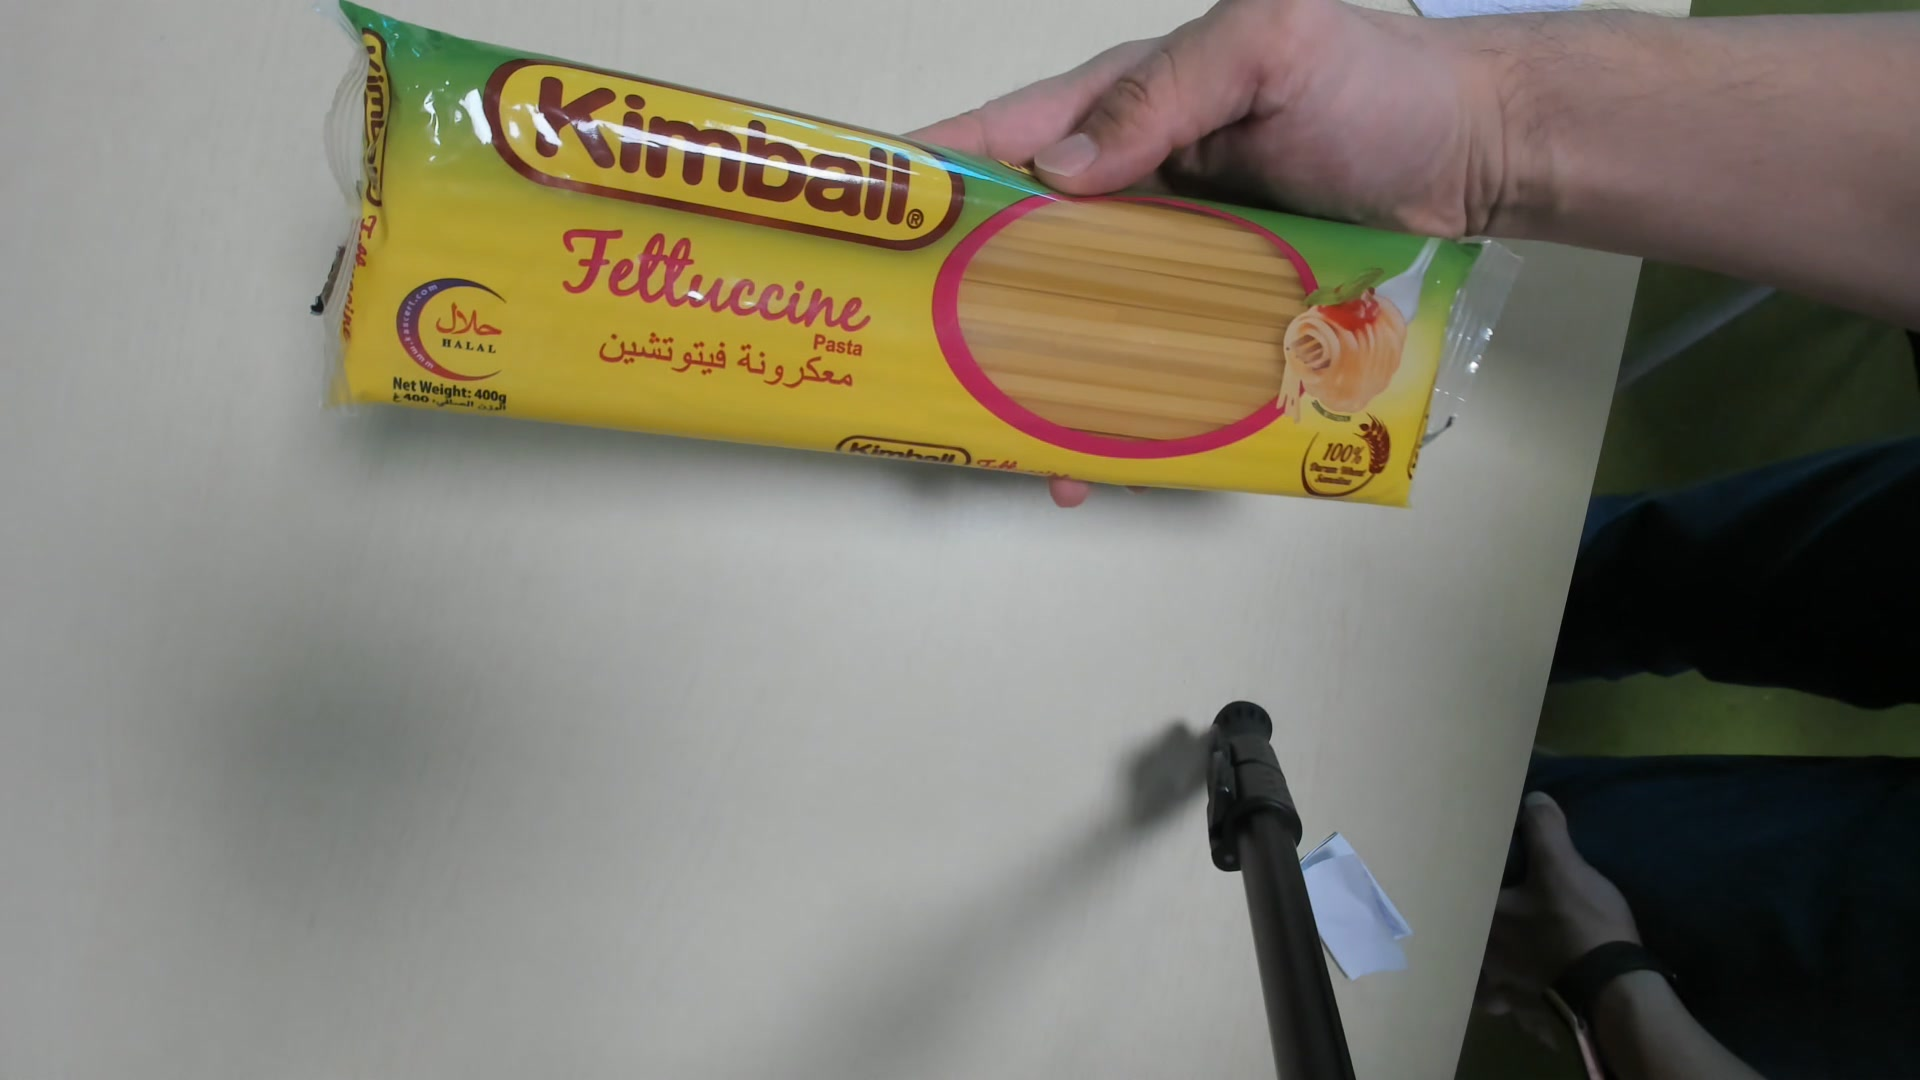Pasta_400-499g_Halal_NonHealthy: (315, 7, 1530, 506)
